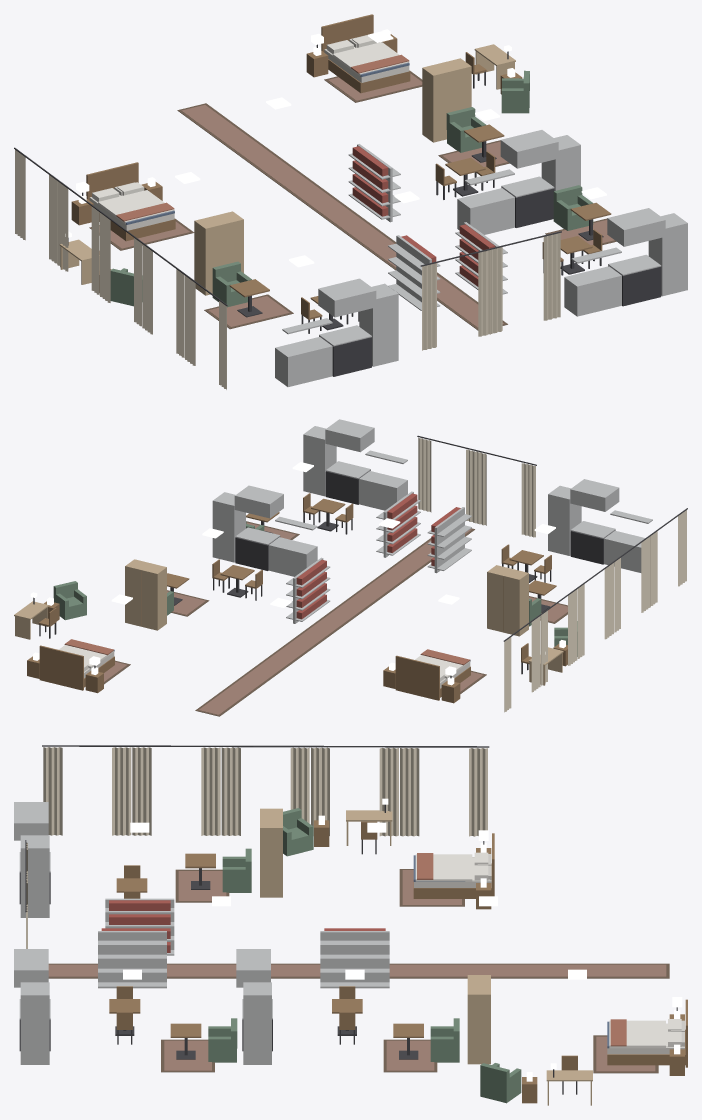
Rendered from fine-s2.glb.
3 views of the same model, one above another, from view 1: azimuth 30°, elevation 25°; view 2: azimuth 150°, elevation 25°; view 3: azimuth 270°, elevation 25° (orthographic). The views are drawn at different scales.
Parts seen in each view (by area): view 1: soft-s2, range.002, range.004, range.003, dresser.004, dresser.003, bed-frame.004, kitchen-counter.004, kitchen-counter.002, shelving.003, bed-frame.003, kitchen-counter.003 (+18 smaller); view 2: soft-s2, dresser.003, dresser.004, range.003, range.002, range.004, shelving.002, bed-frame.004, bed-frame.003, shelving.003, shelving.004, kitchen-counter.003 (+10 smaller); view 3: soft-s2, shelving.003, shelving.004, fridge.004, fridge.003, shelving.002, fridge.002, dresser.004, dresser.003, bed-frame.003, bed-frame.004, range.002 (+14 smaller).
Boxes of the visible parts, <box> form: soft-s2: <box>14,33,616,389</box>; range.002: <box>318,278,376,376</box>; range.004: <box>607,208,665,306</box>; range.003: <box>500,130,558,227</box>; dresser.004: <box>422,58,471,142</box>; dresser.003: <box>194,211,243,295</box>; bed-frame.004: <box>321,14,410,93</box>; kitchen-counter.004: <box>564,247,621,316</box>; kitchen-counter.002: <box>275,318,332,386</box>; shelving.003: <box>348,144,400,222</box>; bed-frame.003: <box>86,162,175,241</box>; kitchen-counter.003: <box>457,169,514,234</box>; soft-s2: <box>59,435,687,716</box>; dresser.003: <box>487,565,528,636</box>; dresser.004: <box>125,559,166,630</box>; range.003: <box>234,485,283,570</box>; range.002: <box>570,479,619,564</box>; range.004: <box>325,419,374,504</box>; shelving.002: <box>427,507,471,573</box>; bed-frame.004: <box>39,645,114,690</box>; bed-frame.003: <box>395,655,470,700</box>; shelving.003: <box>286,557,330,623</box>; shelving.004: <box>376,491,420,557</box>; kitchen-counter.003: <box>268,516,317,576</box>; soft-s2: <box>25,745,683,1073</box>; shelving.003: <box>320,928,389,988</box>; shelving.004: <box>98,928,166,988</box>; fridge.004: <box>20,982,49,1064</box>; fridge.003: <box>243,982,271,1064</box>; shelving.002: <box>105,898,174,955</box>; fridge.002: <box>20,835,49,917</box>; dresser.004: <box>467,975,490,1064</box>; dresser.003: <box>260,808,282,897</box>; bed-frame.003: <box>413,833,494,898</box>; bed-frame.004: <box>607,999,687,1067</box>; range.002: <box>14,802,50,904</box>.
Bounding box in the file's own units: 16.62 × 2.61 × 17.52.
